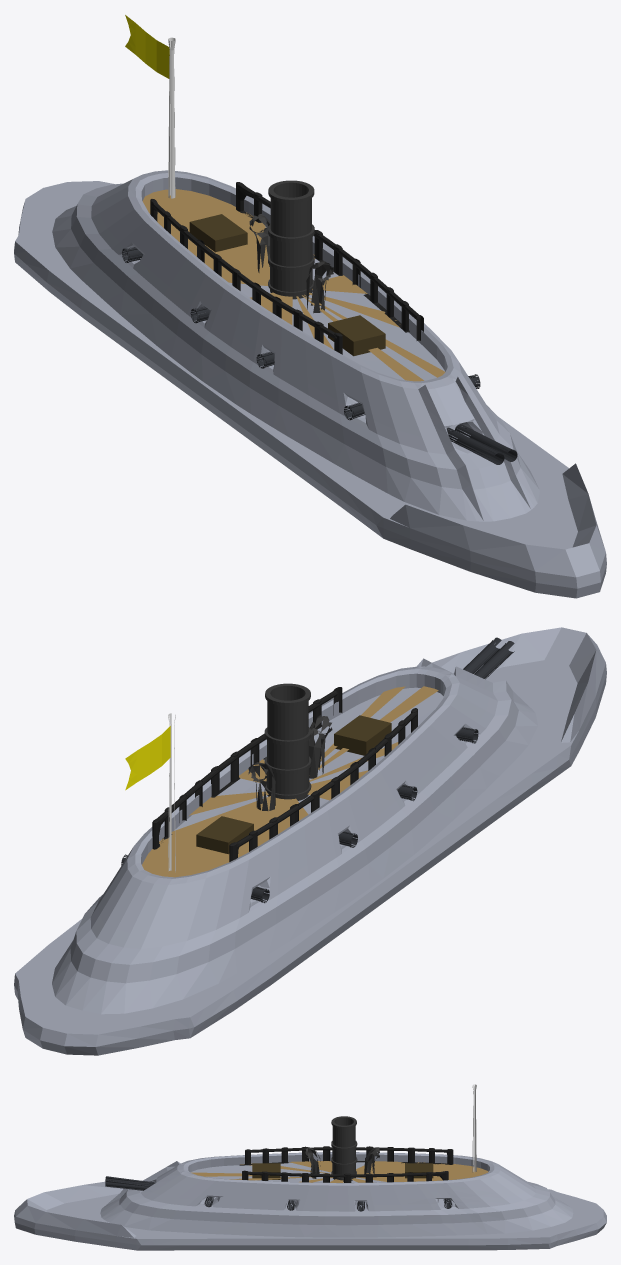
The model's file is Ironclad.glb.
3 views of the same model, one above another, from view 1: azimuth 30°, elevation 25°; view 2: azimuth 150°, elevation 25°; view 3: azimuth 270°, elevation 25° (orthographic). The views are drawn at different scales.
Parts seen in each view (by area): view 1: Circle, Plane, upper deck, upper deck.001, Circle.001, deck door.001, deck door, flag, small mast, Circle.002; view 2: Circle, Plane, upper deck, upper deck.001, Circle.001, deck door.001, flag, deck door, Circle.002, Circle.003, small mast; view 3: Circle, Plane, upper deck.001, upper deck, Circle.001, deck door.001, small mast, deck door, Circle.009, Circle.003, Circle.002.
Boxes of the visible parts, x1=… form: Circle: x1=52, y1=170, x2=539, y2=521; Plane: x1=14, y1=181, x2=606, y2=598; upper deck: x1=142, y1=189, x2=445, y2=381; upper deck.001: x1=150, y1=182, x2=423, y2=354; Circle.001: x1=268, y1=180, x2=314, y2=299; deck door.001: x1=328, y1=315, x2=385, y2=356; deck door: x1=189, y1=214, x2=247, y2=252; flag: x1=125, y1=15, x2=169, y2=78; small mast: x1=168, y1=37, x2=175, y2=198; Circle.002: x1=306, y1=261, x2=333, y2=313; Circle: x1=52, y1=658, x2=537, y2=1014; Plane: x1=14, y1=627, x2=606, y2=1055; upper deck: x1=142, y1=686, x2=438, y2=877; upper deck.001: x1=152, y1=687, x2=417, y2=861; Circle.001: x1=264, y1=683, x2=311, y2=800; deck door.001: x1=334, y1=715, x2=391, y2=755; flag: x1=125, y1=726, x2=170, y2=790; deck door: x1=196, y1=816, x2=253, y2=854; Circle.002: x1=309, y1=715, x2=332, y2=778; Circle.003: x1=248, y1=762, x2=275, y2=810; small mast: x1=168, y1=713, x2=175, y2=872; Circle: x1=100, y1=1152, x2=573, y2=1237; Plane: x1=14, y1=1181, x2=606, y2=1250; upper deck.001: x1=239, y1=1146, x2=453, y2=1182; upper deck: x1=191, y1=1161, x2=488, y2=1182; Circle.001: x1=331, y1=1116, x2=357, y2=1181; deck door.001: x1=252, y1=1163, x2=280, y2=1179; small mast: x1=472, y1=1084, x2=476, y2=1172; deck door: x1=405, y1=1163, x2=433, y2=1178; Circle.009: x1=105, y1=1179, x2=151, y2=1190; Circle.003: x1=364, y1=1147, x2=379, y2=1174; Circle.002: x1=305, y1=1147, x2=320, y2=1178.
Bounding box in the file's own units: 0.7572 × 0.937 × 3.61.
